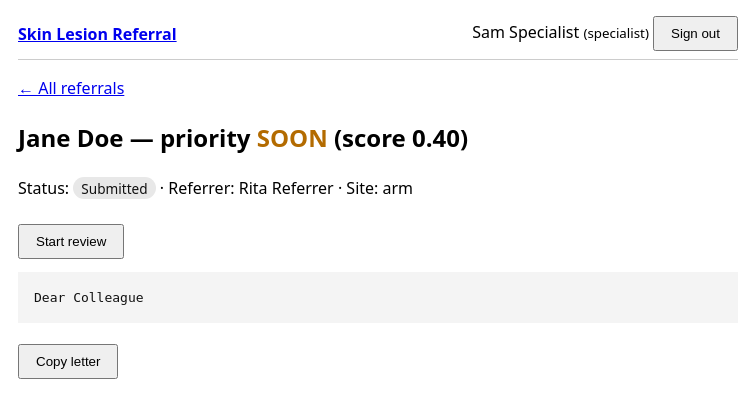
App › renders only the server-allowed status actions and applies one
The image size is (755, 396).
Click the button "Start review" at (71, 241), box [18, 224, 124, 259]
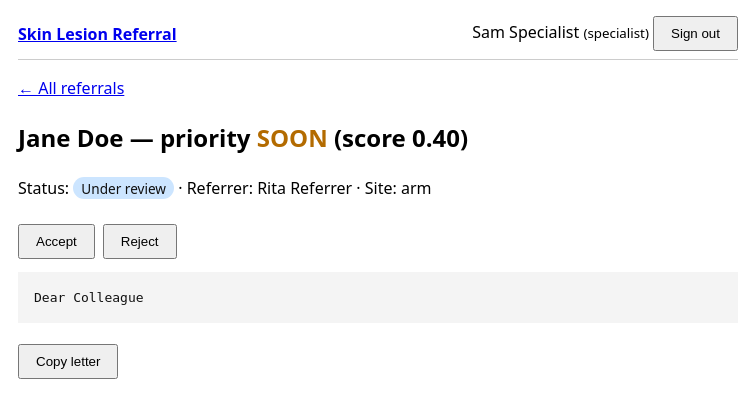
Result: the button "Accept" is shown at [18, 224, 95, 259]
Result: the button "Start review" is gone
